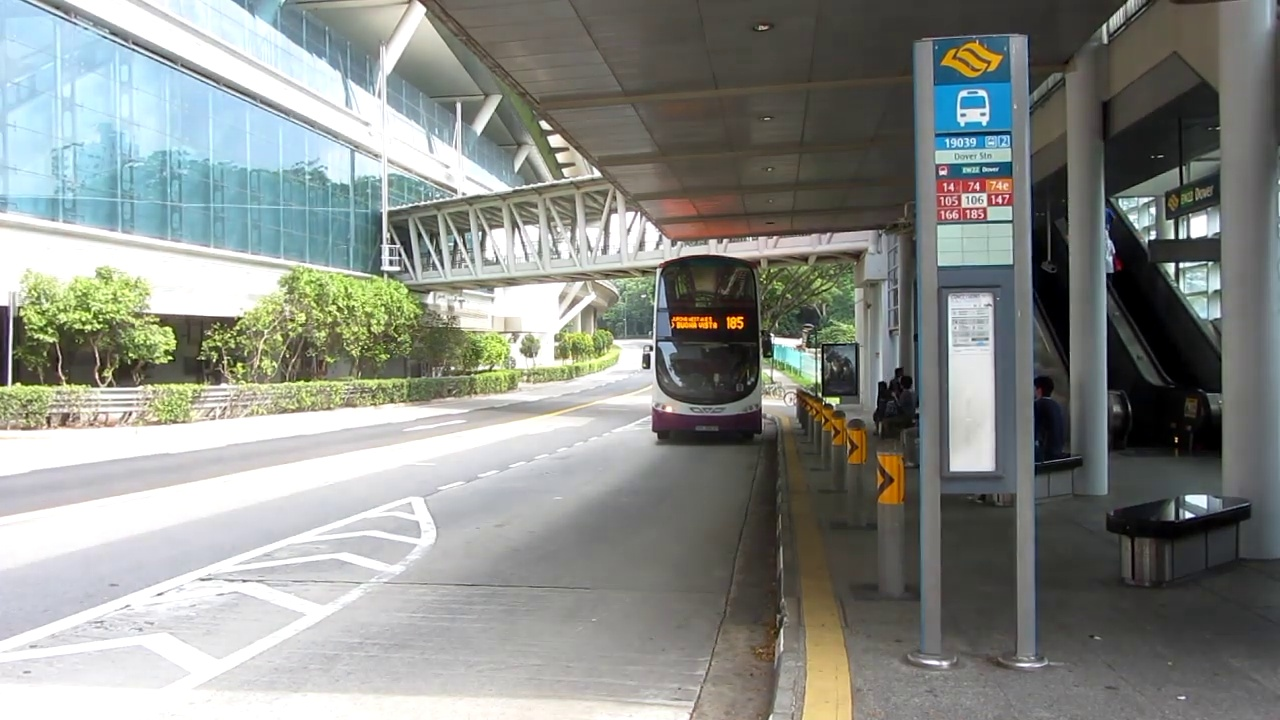bus panel: (668, 314, 748, 333)
